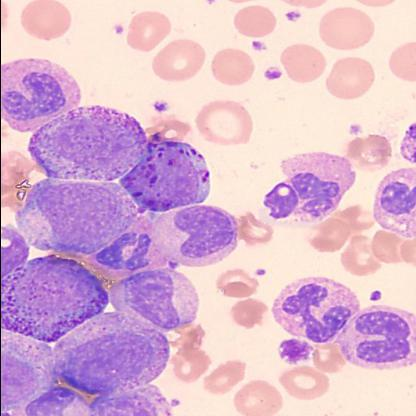Promyelocyte: (49, 311, 172, 395), (30, 106, 146, 182)
